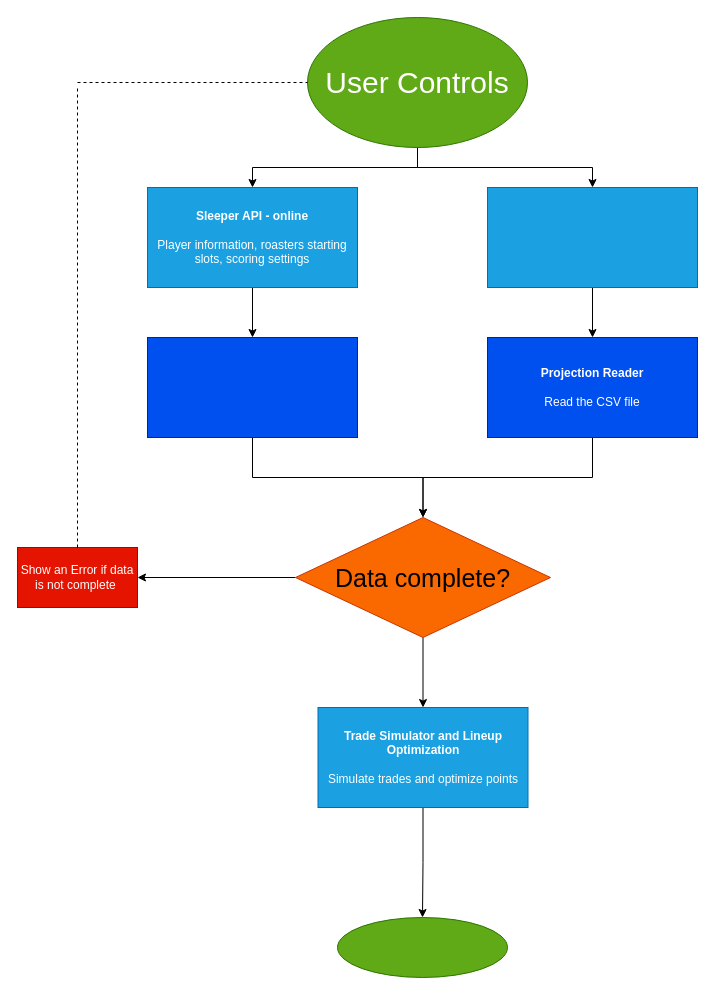
Image size: 715x1001. Some labels were removed from this diagram. Each missing label, with the box of its shape:
Comparison Results: (336, 916, 508, 978)
Projection CSV - local file Sleeper player ID, week, projected points: (486, 186, 698, 288)
Sleeper Importer Read API responses using HttpClient: (146, 336, 358, 438)
